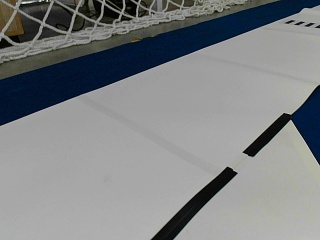crosswalk: (285, 18, 319, 27)
